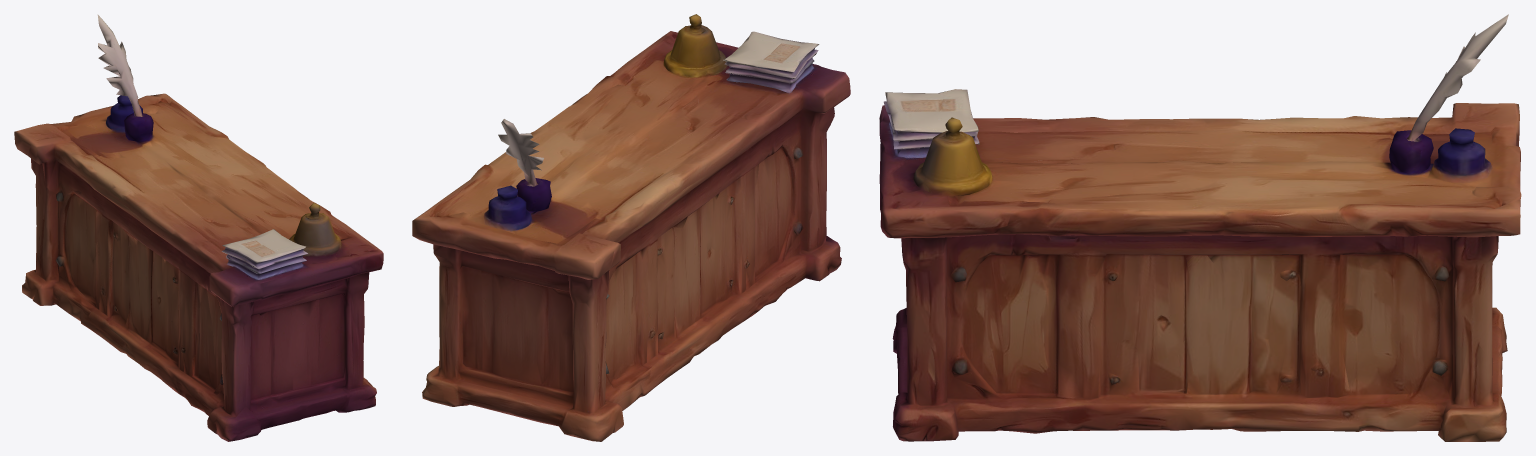
Rendered from prop_guild_counter_v2_model.glb.
3 renders of one model, left to right at view 1: azimuth 30°, elevation 25°; view 2: azimuth 150°, elevation 25°; view 3: azimuth 270°, elevation 25°, orthographic. The views are drawn at different scales.
Parts seen in each view (by area): view 1: tripo_node_c309b917-e17e-4ff8-abc2-e0f0cbcbbd46; view 2: tripo_node_c309b917-e17e-4ff8-abc2-e0f0cbcbbd46; view 3: tripo_node_c309b917-e17e-4ff8-abc2-e0f0cbcbbd46.
Boxes of the visible parts, box(x1,y1,x2,y2) form: tripo_node_c309b917-e17e-4ff8-abc2-e0f0cbcbbd46: box(14, 14, 383, 441); tripo_node_c309b917-e17e-4ff8-abc2-e0f0cbcbbd46: box(412, 14, 850, 441); tripo_node_c309b917-e17e-4ff8-abc2-e0f0cbcbbd46: box(879, 14, 1521, 441).
Bounding box in the file's own units: 0.4087 × 0.6478 × 1.
1 material, 1 textured.
